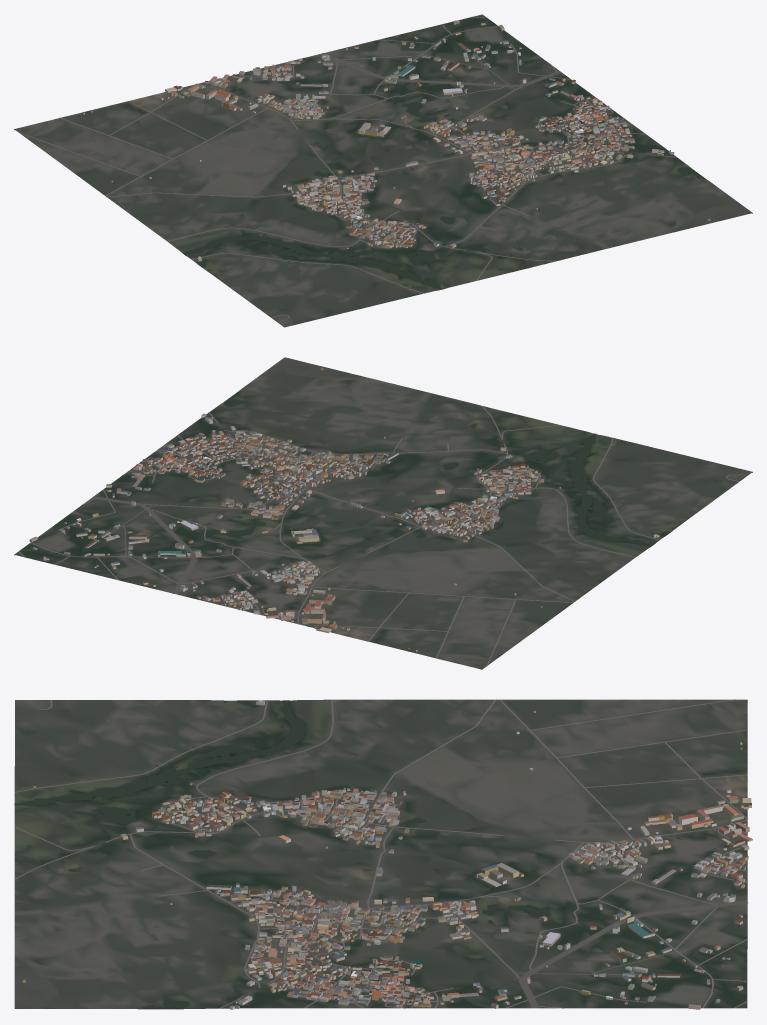
3 renders of one model, top to bottom at view 1: azimuth 30°, elevation 25°; view 2: azimuth 150°, elevation 25°; view 3: azimuth 270°, elevation 25°, orthographic. The views are drawn at different scales.
Visible parts, largest first — view 1: ground, buildings, roads, water; view 2: ground, buildings, roads, water; view 3: ground, buildings, roads, water.
Part boxes in pixels (x1,y1,x2,y2): ground: (14, 14, 752, 327); buildings: (83, 20, 710, 290); roads: (18, 16, 677, 317); water: (183, 102, 705, 289); ground: (14, 357, 752, 669); buildings: (29, 368, 659, 651); roads: (18, 405, 739, 666); water: (223, 391, 673, 546); ground: (14, 699, 747, 1009); buildings: (22, 700, 752, 1009); roads: (14, 699, 747, 1008); water: (14, 700, 550, 1008).
Bounding box in the file's own units: 1409 × 18.89 × 1414.
